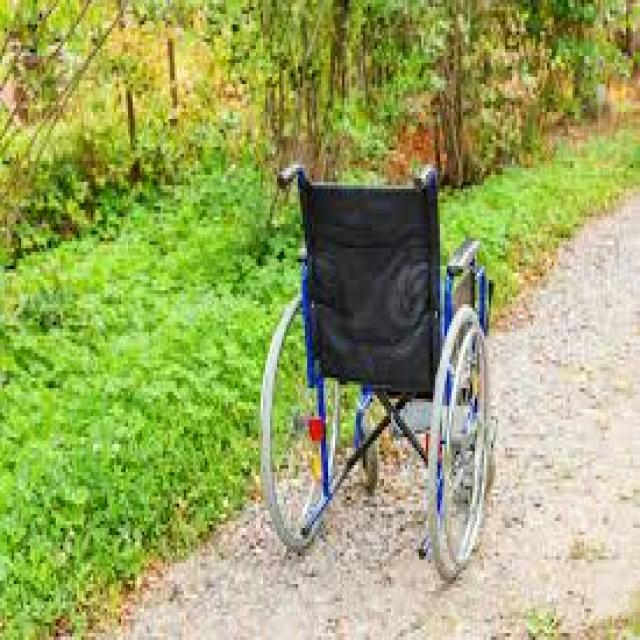wheelchairs: (230, 150, 514, 591)
